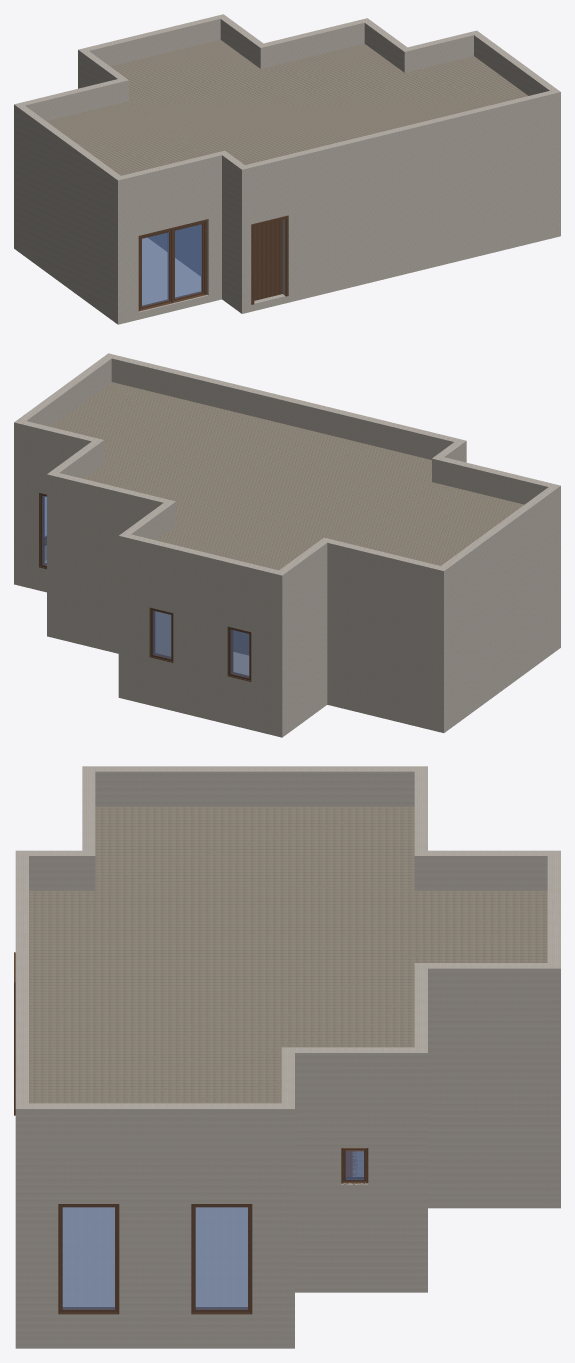
Rendered from GLB PLAN UE5.glb.
The picture shows the model from 3 angles, top to bottom: view 1: azimuth 30°, elevation 25°; view 2: azimuth 150°, elevation 25°; view 3: azimuth 270°, elevation 25°; orthographic projection. The views are drawn at different scales.
Visible parts, largest first — view 1: Component_2, Component_4, Component_3, Doors_GEALAN_S9000_Double-Vent-Door_-_Doors_GEALAN_S9000_Dou, M_Single-Flush_-_0915_x_2134mm-204332-_3D_; view 2: Component_2, Component_4, Component_3, Component_9, Component_9_2, Component_8_2, Component_8, M_Fixed_-_0915_x_1830mm-225365-_3D__3; view 3: Component_2, Component_4, Component_3, M_Fixed_-_0915_x_1830mm-225365-_3D_, M_Fixed_-_0915_x_1830mm-225365-_3D__2, M_Fixed_-_0406_x_0610mm-225791-_3D_.
Part boxes in pixels (left/top/right/bottom): Component_2: left=14, top=14, right=560, bottom=208; Component_4: left=14, top=78, right=560, bottom=317; Component_3: left=14, top=229, right=560, bottom=324; Doors_GEALAN_S9000_Double-Vent-Door_-_Doors_GEALAN_S9000_Dou: left=138, top=219, right=207, bottom=311; M_Single-Flush_-_0915_x_2134mm-204332-_3D_: left=251, top=215, right=288, bottom=304; Component_2: left=14, top=353, right=560, bottom=606; Component_4: left=14, top=454, right=560, bottom=729; Component_3: left=14, top=560, right=560, bottom=737; Component_9: left=153, top=610, right=171, bottom=658; Component_9_2: left=231, top=629, right=249, bottom=677; Component_8_2: left=227, top=626, right=251, bottom=681; Component_8: left=149, top=607, right=173, bottom=662; M_Fixed_-_0915_x_1830mm-225365-_3D__3: left=39, top=493, right=46, bottom=569; Component_2: left=15, top=766, right=560, bottom=1155; Component_4: left=15, top=1015, right=560, bottom=1336; Component_3: left=15, top=1196, right=560, bottom=1348; M_Fixed_-_0915_x_1830mm-225365-_3D_: left=191, top=1204, right=252, bottom=1314; M_Fixed_-_0915_x_1830mm-225365-_3D__2: left=58, top=1204, right=119, bottom=1314; M_Fixed_-_0406_x_0610mm-225791-_3D_: left=341, top=1148, right=368, bottom=1184.
Bounding box in the file's own units: 12200 × 3977 × 8225.
13 materials, 4 textured.
